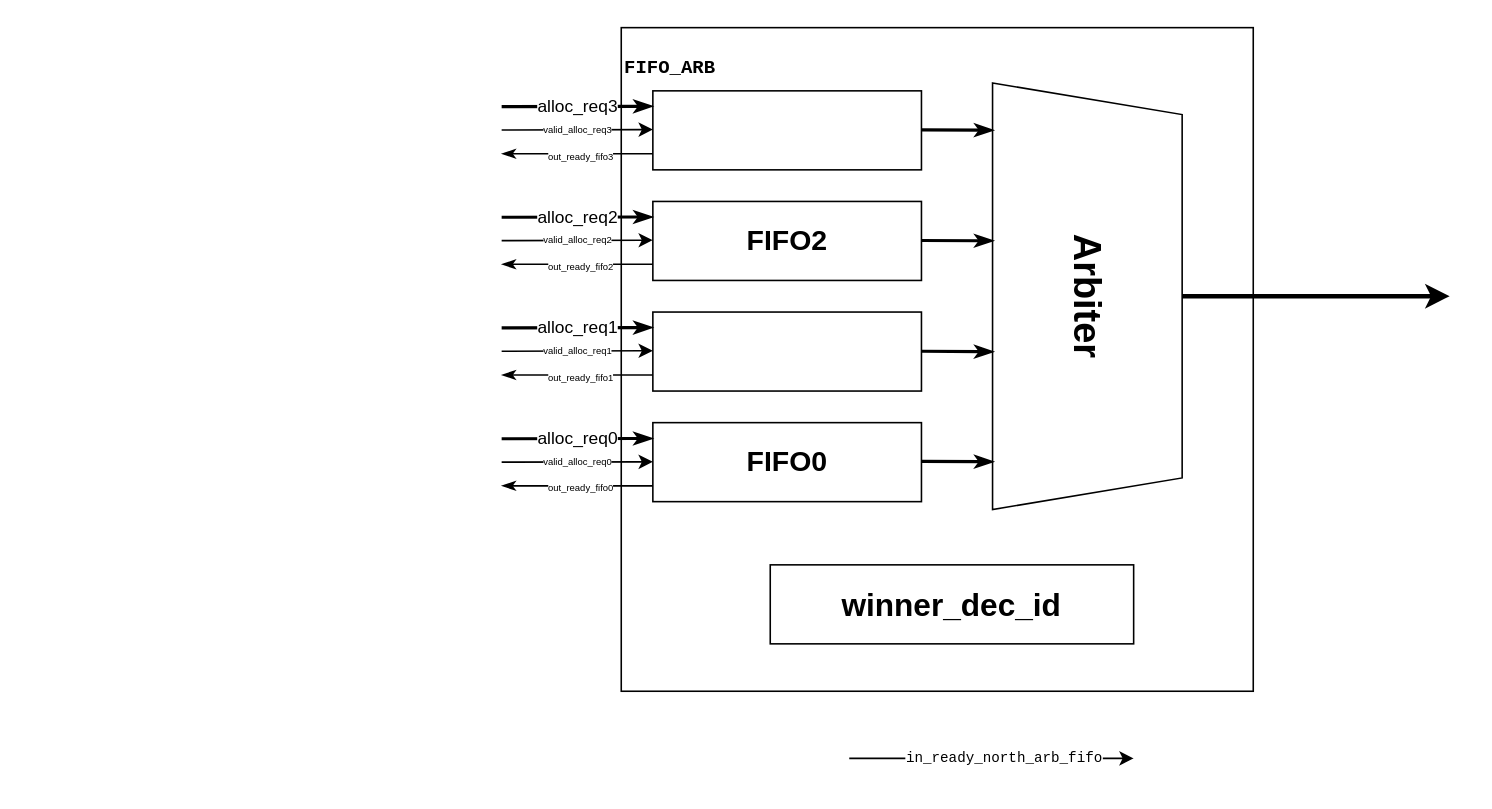
This 1492x809 diagram has some shape labels left out. The shapes that lost their labels are listed below. From the top down, each one's centre as x and y in pixels, then its label:
At [786,129]: "FIFO3".
At [786,350]: "FIFO1".
